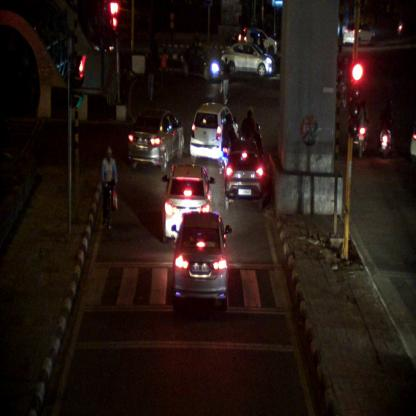car: (172, 214, 232, 312), (161, 164, 216, 241), (126, 110, 184, 171), (189, 101, 238, 166), (222, 141, 263, 212), (221, 42, 276, 78), (181, 46, 229, 80), (238, 29, 275, 56), (344, 22, 376, 49)
motorcycle: (380, 100, 396, 160), (356, 98, 368, 161)
